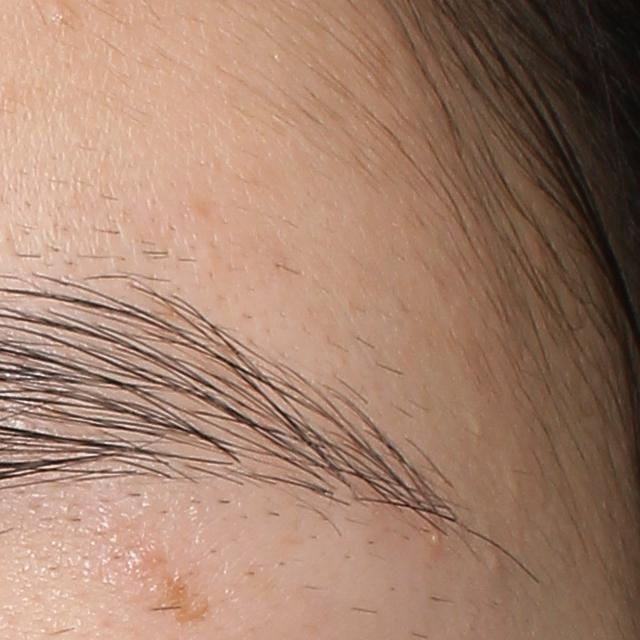melasma: (165, 569, 212, 629)
